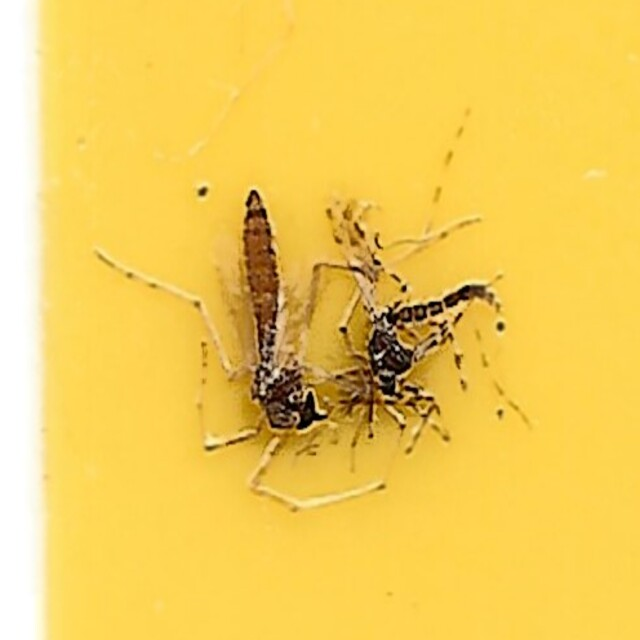Nematocera: (129, 183, 334, 457), (323, 199, 511, 453)
